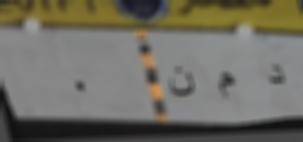0: (69, 72, 93, 100)
daal: (263, 54, 290, 93)
meem: (211, 71, 239, 103)
noon: (166, 60, 197, 98)
